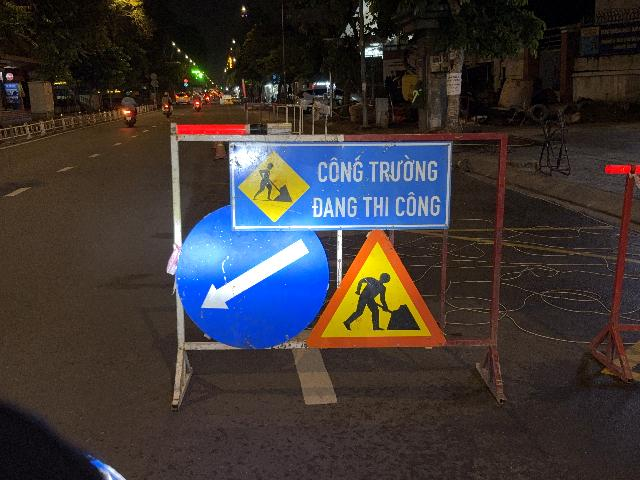cong-truong-dang-thi-cong: (306, 229, 447, 348)
huong-phai-di-vong-chuong-ngai-vat: (176, 204, 329, 348)
